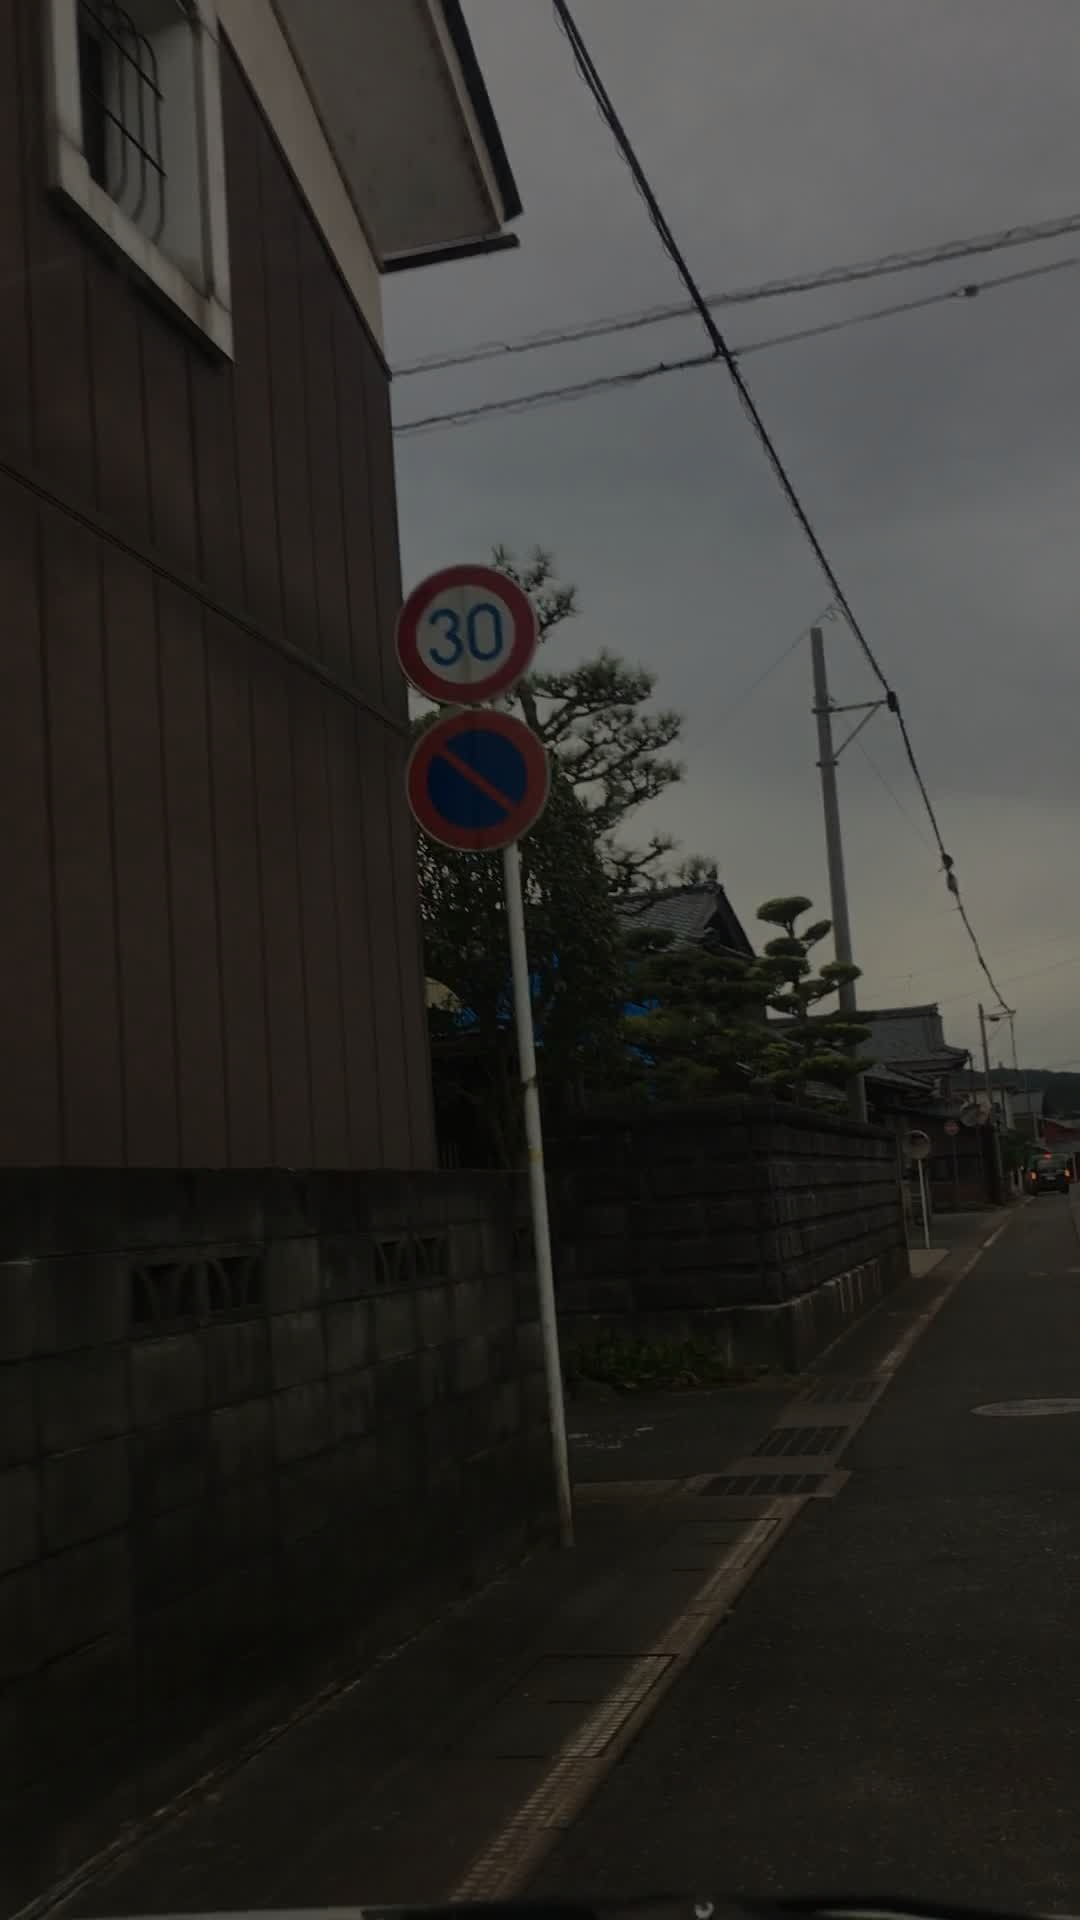Prohibition_sign: (411, 704, 570, 855)
Speed_sign: (390, 562, 550, 704)
